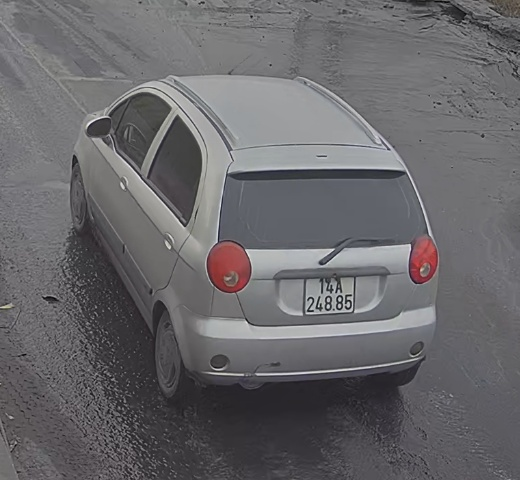vehicle plate: (294, 270, 366, 318)
